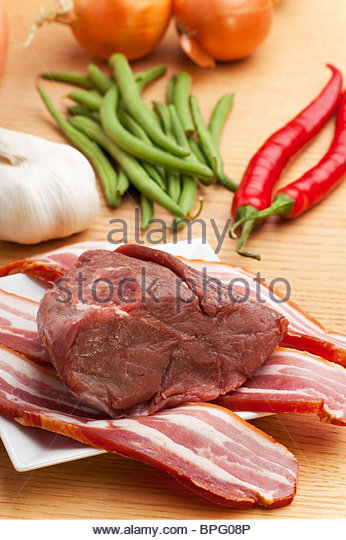bacon: (19, 251, 332, 488), (76, 257, 277, 408)
